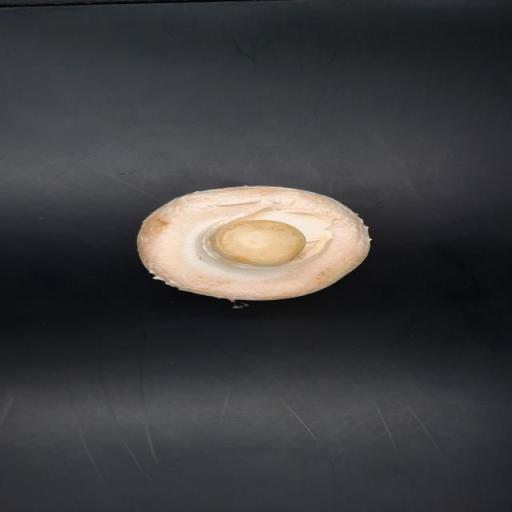mushroom: (137, 186, 371, 299)
